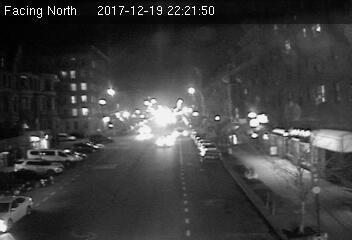car: (155, 135, 174, 147)
